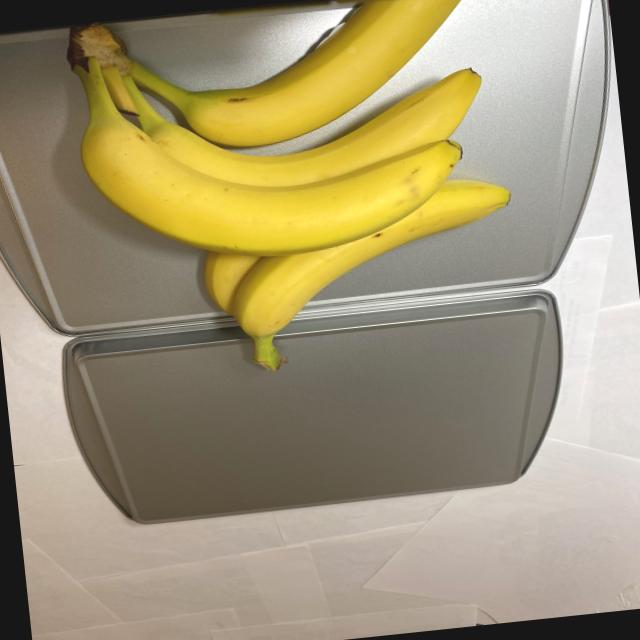banana: (58, 0, 534, 390)
